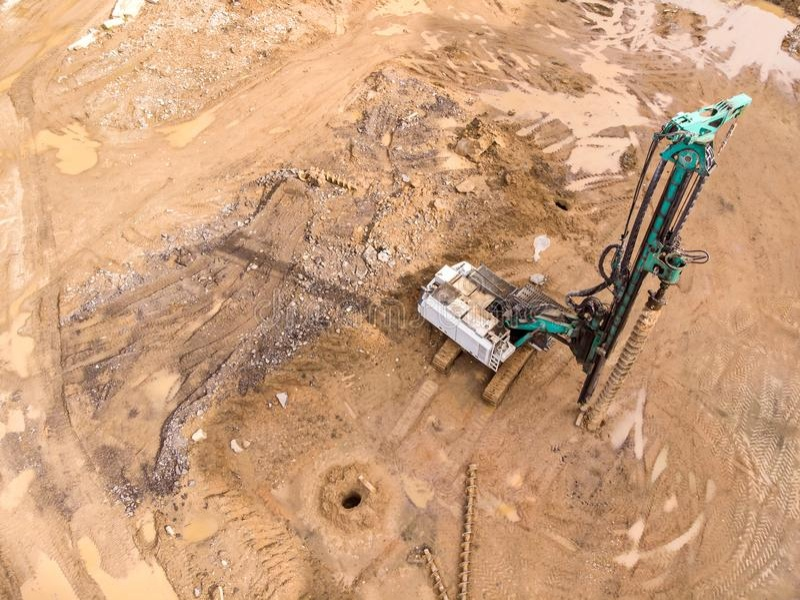crane: (416, 89, 753, 432)
